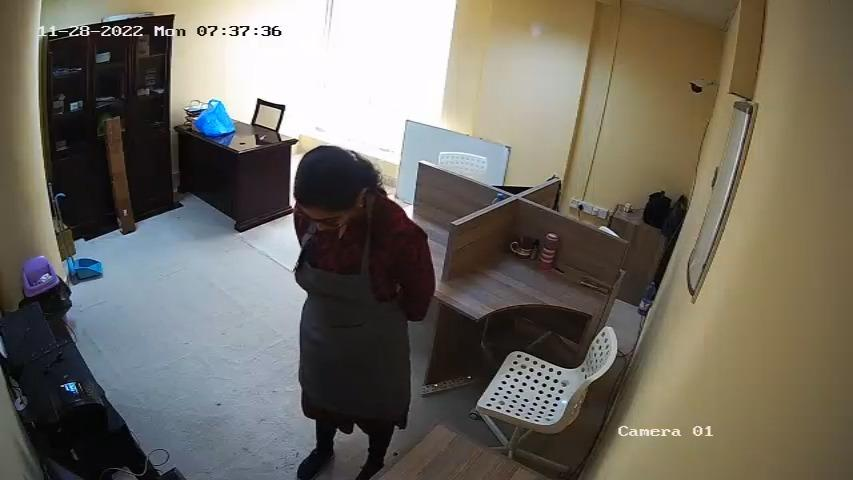apron: (290, 230, 411, 418)
